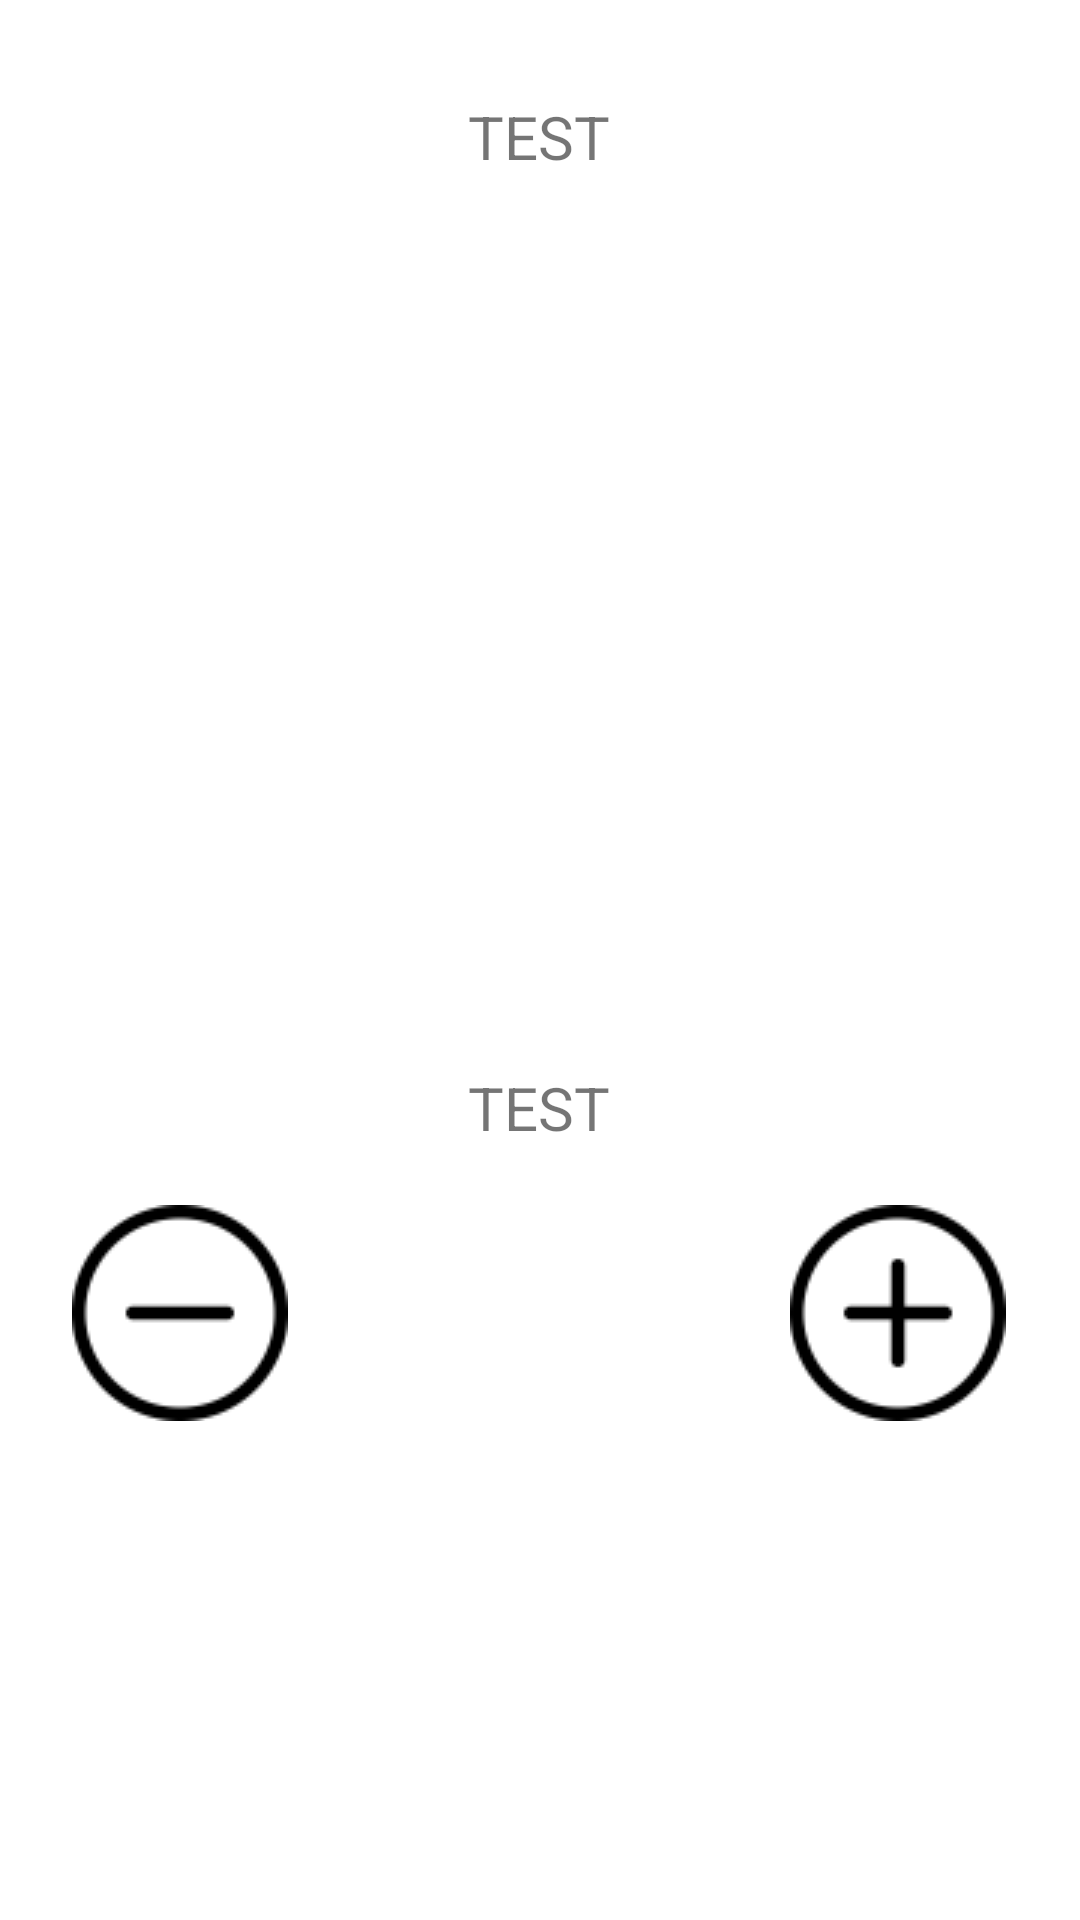

Screen size 1080px×1920px. Icon name, then its center in pixels as point (x, y):
less: point (180, 1313)
plus: point (898, 1313)
